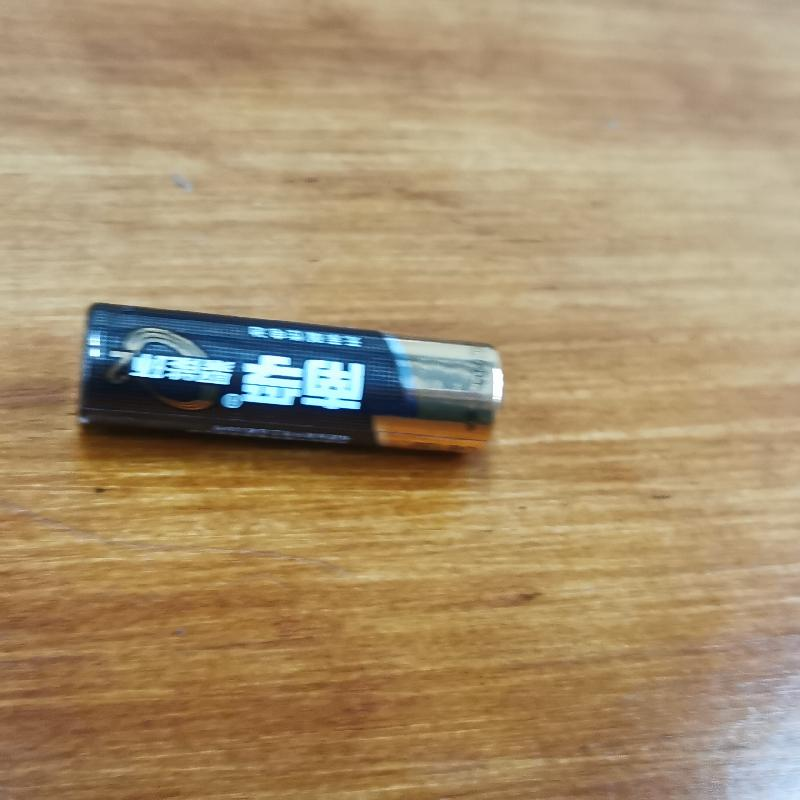battery: (75, 292, 511, 465)
